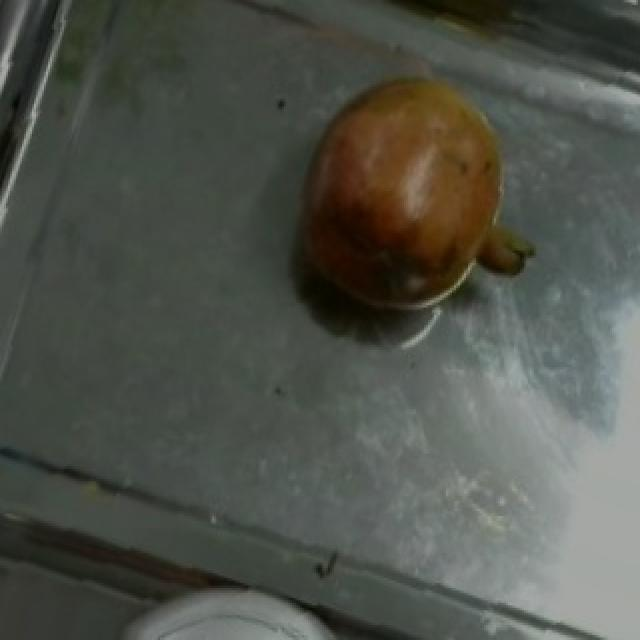fruit: (266, 47, 540, 337)
